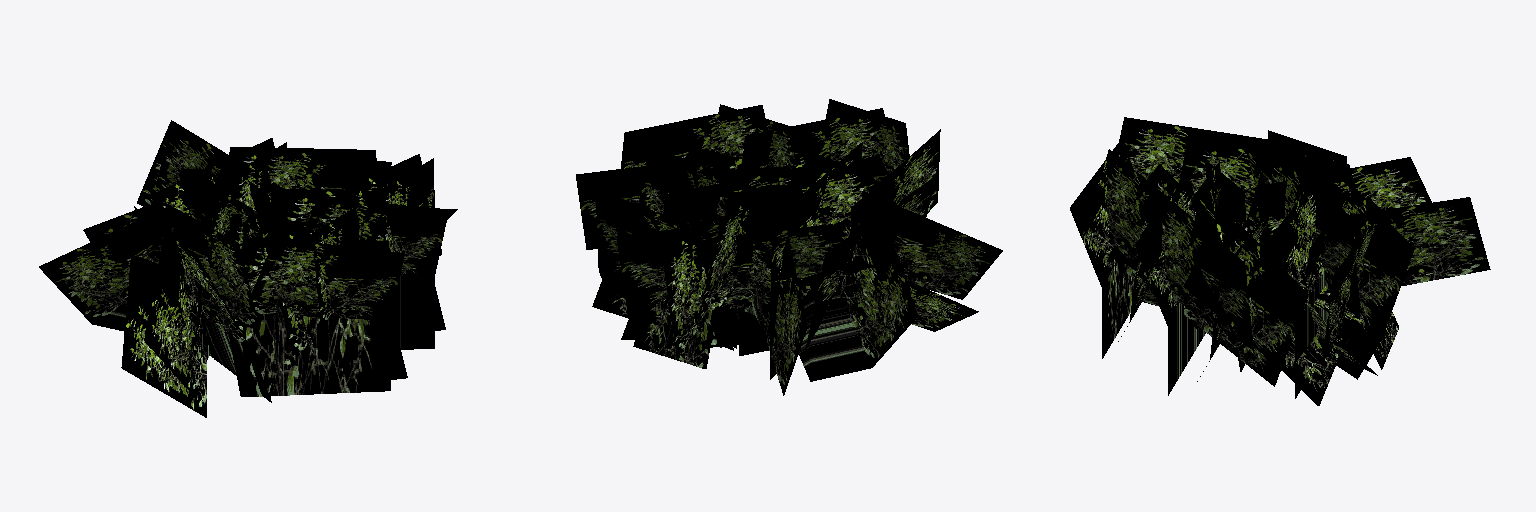
3 views of the same model, side by side, from view 1: azimuth 30°, elevation 25°; view 2: azimuth 150°, elevation 25°; view 3: azimuth 270°, elevation 25° (orthographic).
Parts seen in each view (by area): view 1: genVEG_tallgrass10; view 2: genVEG_tallgrass10; view 3: genVEG_tallgrass10.
Boxes of the visible parts, x1,y1,x2,y2 form: genVEG_tallgrass10: [39, 120, 457, 417]; genVEG_tallgrass10: [576, 99, 1002, 395]; genVEG_tallgrass10: [1070, 117, 1490, 405].
Bounding box in the file's own units: 8.51 × 4.1 × 8.44.
Materials: 1 (1 with a texture image).